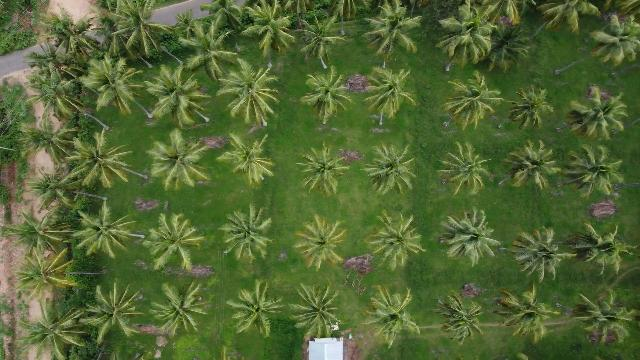trees: (100, 2, 174, 66), (79, 282, 151, 347), (17, 298, 91, 360), (64, 131, 139, 192), (216, 60, 282, 128), (144, 65, 214, 129), (493, 283, 565, 345), (35, 5, 102, 71), (71, 202, 144, 261), (21, 62, 89, 125), (80, 55, 147, 117), (180, 18, 242, 85), (438, 5, 499, 72), (142, 212, 210, 272), (148, 131, 214, 192), (566, 222, 639, 277), (364, 4, 423, 71), (507, 227, 577, 283), (365, 212, 430, 272), (440, 73, 506, 132), (17, 110, 84, 168), (12, 244, 79, 302), (439, 208, 503, 268), (149, 281, 214, 340), (360, 288, 420, 351), (569, 292, 639, 346), (561, 146, 628, 201), (6, 208, 79, 258), (566, 89, 633, 142), (227, 280, 285, 340), (219, 206, 277, 265), (362, 68, 420, 127), (241, 3, 297, 63), (301, 68, 357, 127), (502, 141, 565, 192), (437, 143, 495, 198), (361, 145, 419, 200), (218, 134, 277, 188), (295, 215, 350, 272), (290, 285, 344, 342), (433, 290, 487, 346), (300, 13, 351, 71), (298, 143, 352, 197), (483, 22, 538, 75), (588, 14, 640, 69), (24, 167, 84, 212), (505, 86, 558, 132), (536, 2, 595, 35)
